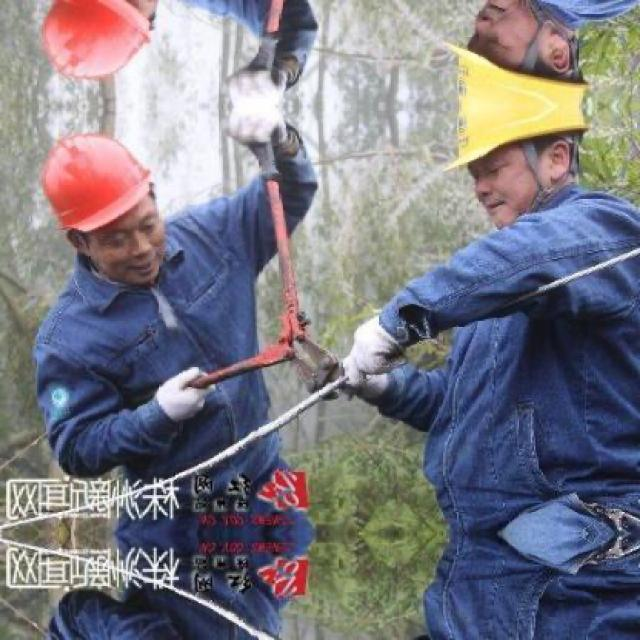helmet: (24, 116, 174, 294), (440, 110, 600, 232), (438, 0, 600, 105), (24, 0, 176, 99)
